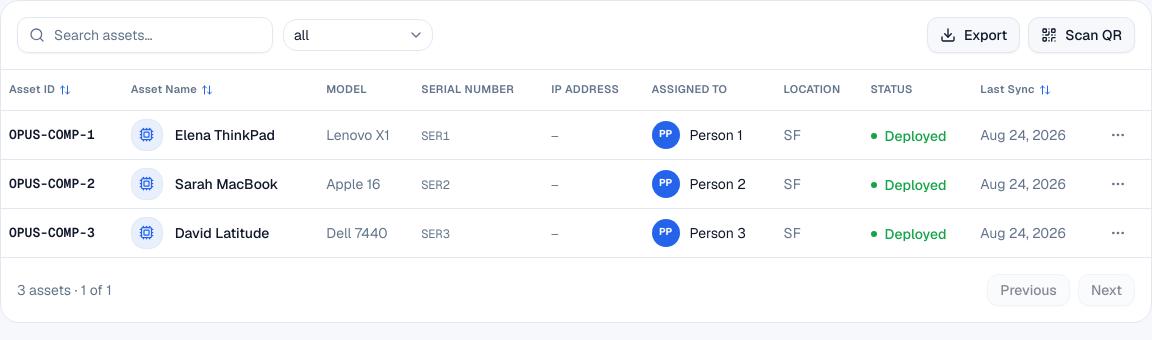
Test: AssetTable search › filters rows to those matching the search text
Expected: the text "Sarah MacBook" is shown, [175,174,278,194]
Step 1. Type "ThinkPad" into the field with placeholder "Search assets…" → (145, 35), box [17,17,273,53]
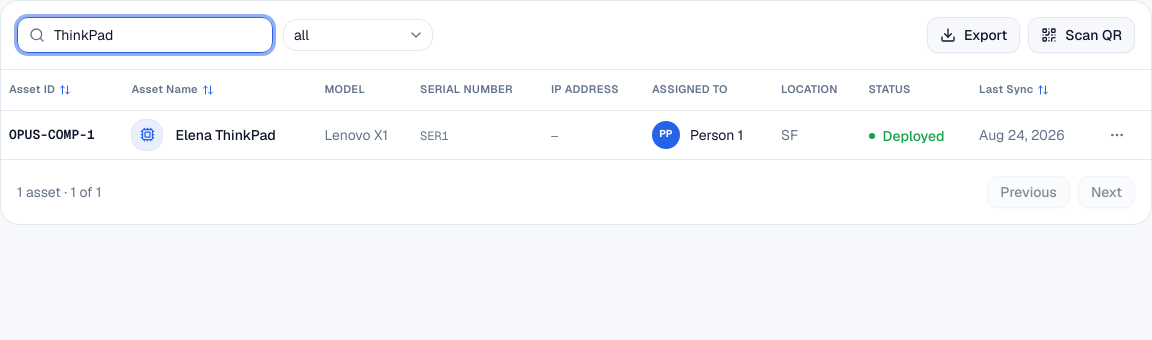
Expected: the text "Elena ThinkPad" is shown, [176,124,276,144]
Expected: the text "Sarah MacBook" is gone
Expected: the text "David Latitude" is gone
